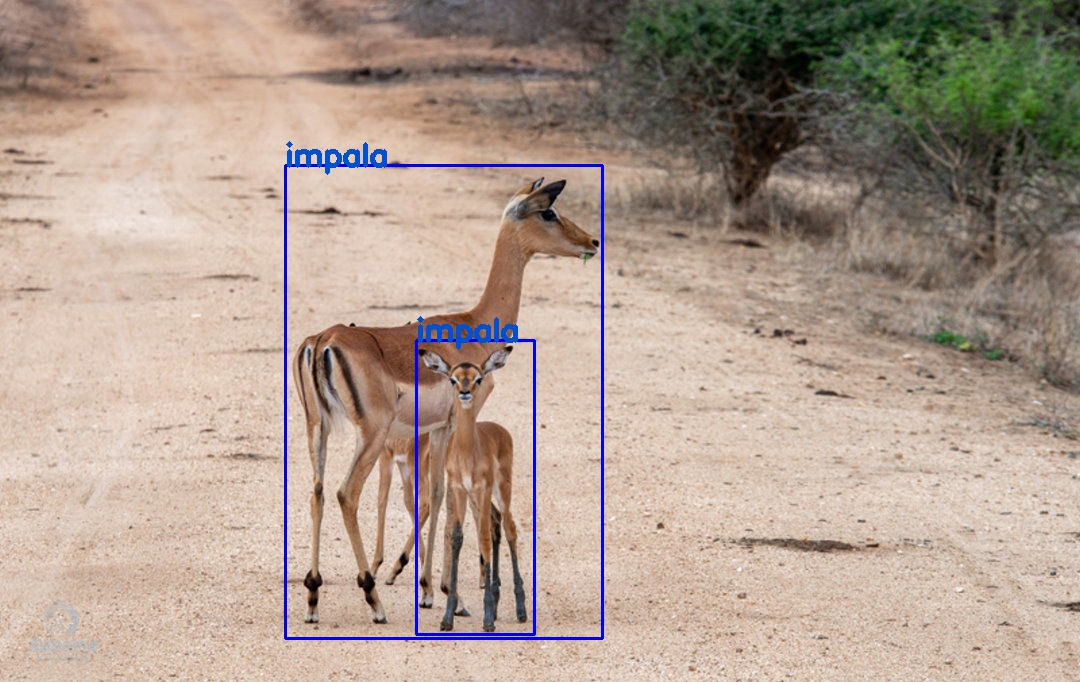impala: (284, 165, 602, 638), (416, 339, 534, 633)
